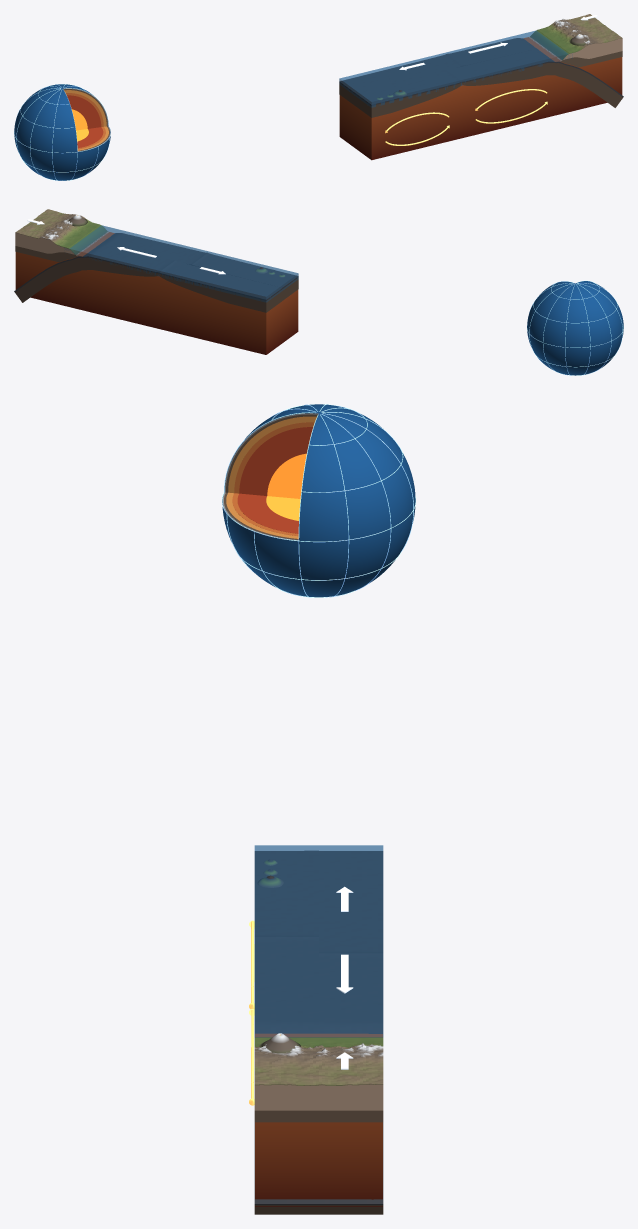
File: tektonik.glb
3 renders of one model, top to bottom at view 1: azimuth 30°, elevation 25°; view 2: azimuth 150°, elevation 25°; view 3: azimuth 270°, elevation 25°, orthographic. The views are drawn at different scales.
Visible parts, largest first — view 1: Mantel_Block, Wasser, Ozean_Globus, Kontinent_Oberflaeche, Lith_Nazca_vorn, Kruste_Pazifik_hinten, Kruste_Nazca_vorn, Kruste_Pazifik_vorn, Kruste_Nazca_hinten, Lith_Pazifik_vorn, Mantel_unten_Globus, Gradnetz_Glow (+5 smaller); view 2: Mantel_Block, Ozean_Globus, Wasser, Kontinent_Oberflaeche, Kruste_Pazifik_hinten, Lith_Nazca_hinten, Kruste_Pazifik_vorn, Kruste_Nazca_vorn, Kruste_Nazca_hinten, Lith_Pazifik_hinten, Gradnetz_Glow, Kontinent_Kruste (+1 smaller); view 3: Wasser, Ozean_Globus, Mantel_Block, Kruste_Nazca_vorn, Kruste_Pazifik_hinten, Kontinent_Oberflaeche, Kruste_Nazca_hinten, Kruste_Pazifik_vorn, Mantel_unten_Globus, Kontinent_Kruste, Gradnetz_Glow, Kern_aussen_Globus (+2 smaller).
Part boxes in pixels (left/top/right/bottom): Mantel_Block: left=339, top=37, right=622, bottom=160; Wasser: left=339, top=30, right=567, bottom=107; Ozean_Globus: left=14, top=84, right=110, bottom=180; Kontinent_Oberflaeche: left=530, top=14, right=622, bottom=59; Lith_Nazca_vorn: left=462, top=63, right=622, bottom=107; Kruste_Pazifik_hinten: left=339, top=54, right=462, bottom=93; Kruste_Nazca_vorn: left=446, top=50, right=623, bottom=97; Kruste_Pazifik_vorn: left=355, top=70, right=461, bottom=105; Kruste_Nazca_hinten: left=447, top=38, right=538, bottom=65; Lith_Pazifik_vorn: left=355, top=83, right=462, bottom=117; Mantel_unten_Globus: left=67, top=95, right=103, bottom=148; Gradnetz_Glow: left=14, top=84, right=110, bottom=180; Mantel_Block: left=15, top=232, right=298, bottom=354; Ozean_Globus: left=527, top=281, right=623, bottom=375; Wasser: left=65, top=225, right=298, bottom=302; Kontinent_Oberflaeche: left=15, top=209, right=107, bottom=254; Kruste_Pazifik_hinten: left=159, top=260, right=282, bottom=300; Lith_Nazca_hinten: left=15, top=257, right=159, bottom=302; Kruste_Pazifik_vorn: left=192, top=253, right=298, bottom=288; Kruste_Nazca_vorn: left=99, top=233, right=207, bottom=264; Kruste_Nazca_hinten: left=14, top=244, right=174, bottom=291; Lith_Pazifik_hinten: left=158, top=274, right=282, bottom=312; Gradnetz_Glow: left=527, top=280, right=623, bottom=375; Kontinent_Kruste: left=15, top=232, right=108, bottom=255; Wasser: left=254, top=845, right=383, bottom=1037; Ozean_Globus: left=222, top=404, right=415, bottom=597; Mantel_Block: left=255, top=1033, right=382, bottom=1206; Kruste_Nazca_vorn: left=254, top=937, right=318, bottom=1204; Kruste_Pazifik_hinten: left=319, top=851, right=383, bottom=953; Kontinent_Oberflaeche: left=254, top=1037, right=383, bottom=1085; Kruste_Nazca_hinten: left=319, top=953, right=383, bottom=1204; Kruste_Pazifik_vorn: left=254, top=850, right=318, bottom=936; Mantel_unten_Globus: left=237, top=427, right=313, bottom=533; Kontinent_Kruste: left=254, top=1084, right=383, bottom=1110; Gradnetz_Glow: left=222, top=404, right=415, bottom=597; Kern_aussen_Globus: left=266, top=453, right=306, bottom=520.
Size of what is drawn, in the model's own units: 421 by 95.22 by 60.32.
